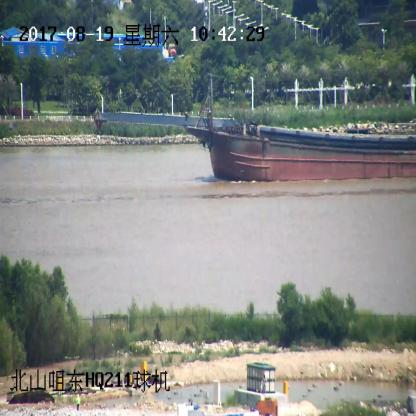Bulk Carrier: (95, 75, 416, 182)
